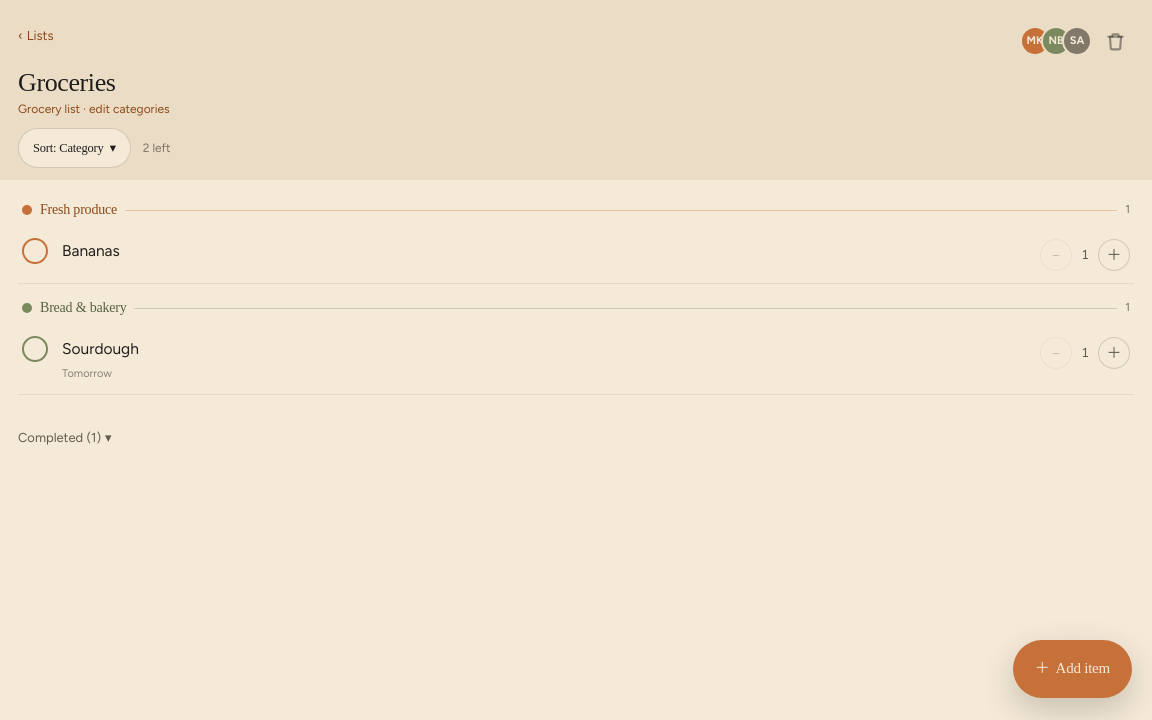
ListDetailScreen deletion › stays put and explains itself when the delete fails
Expected: the heading "Groceries" is shown, top-left (18, 68), bottom-right (116, 97)
What coordinates should you click on to do the following:
click the button named "Delete Groceries"
I would click on:
 (1115, 41)
Its box is top-left (1096, 22), bottom-right (1134, 60).
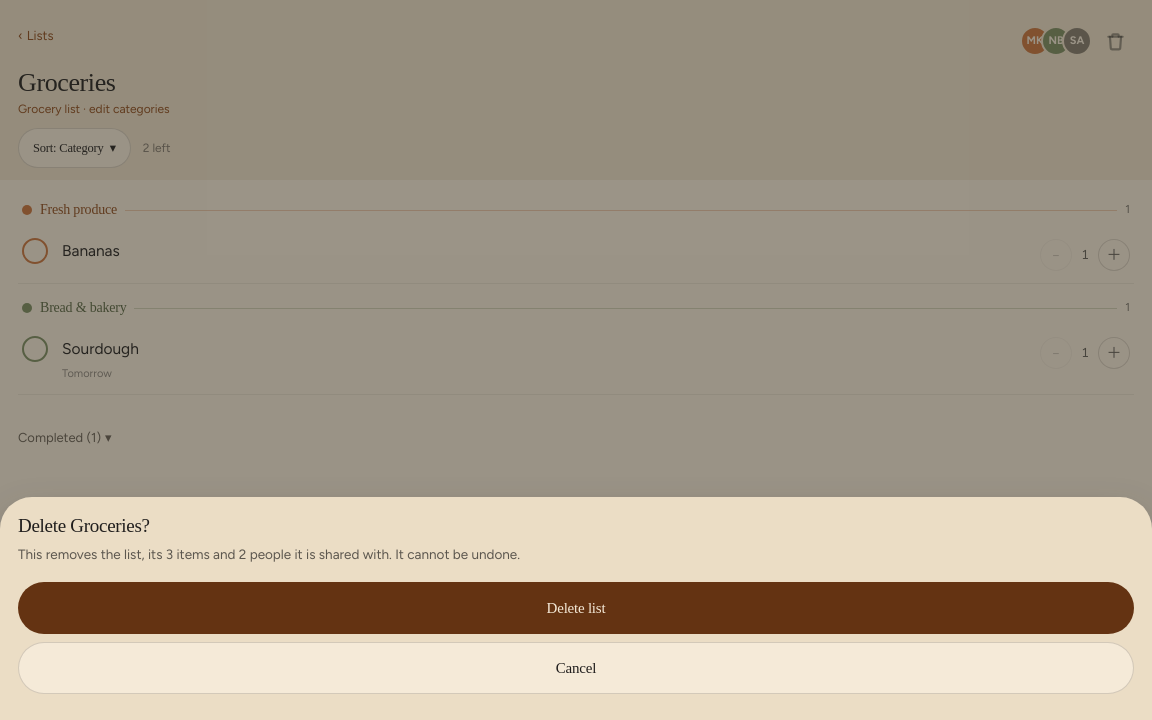
What coordinates should you click on to do the following:
click the button "Delete list"
I would click on:
 (576, 608)
Its box is top-left (18, 582), bottom-right (1134, 634).
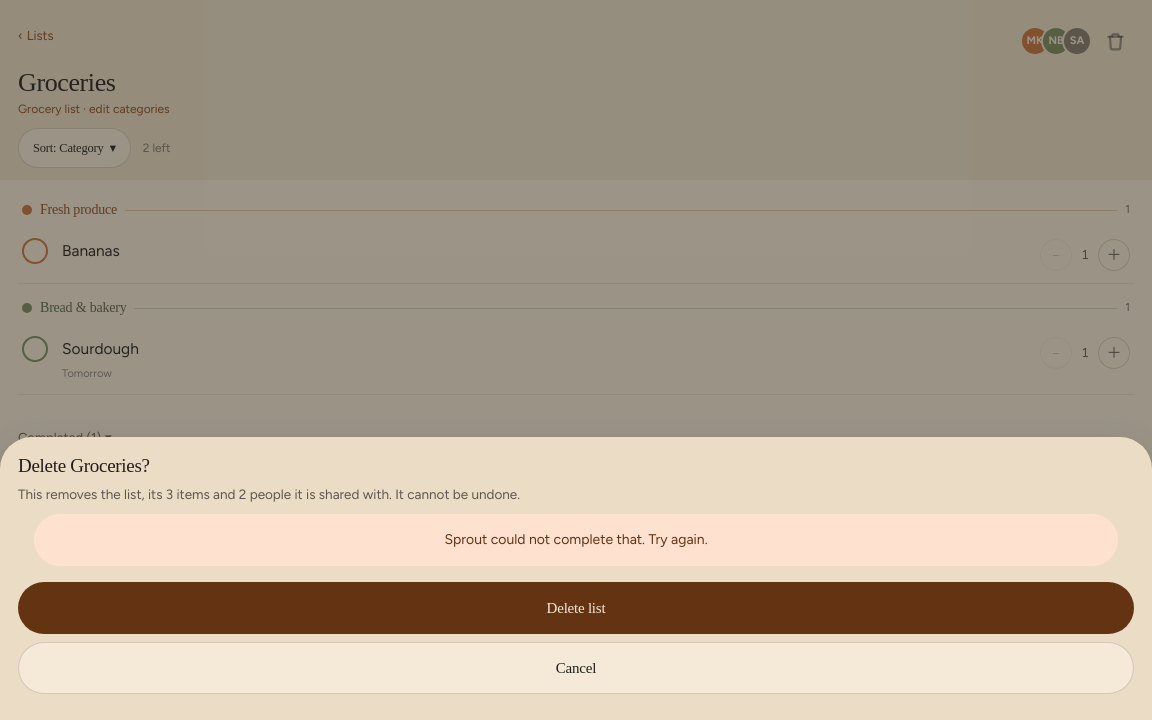
Now the message "Sprout could not complete that. Try again." is shown, box top-left (34, 514), bottom-right (1118, 566)
